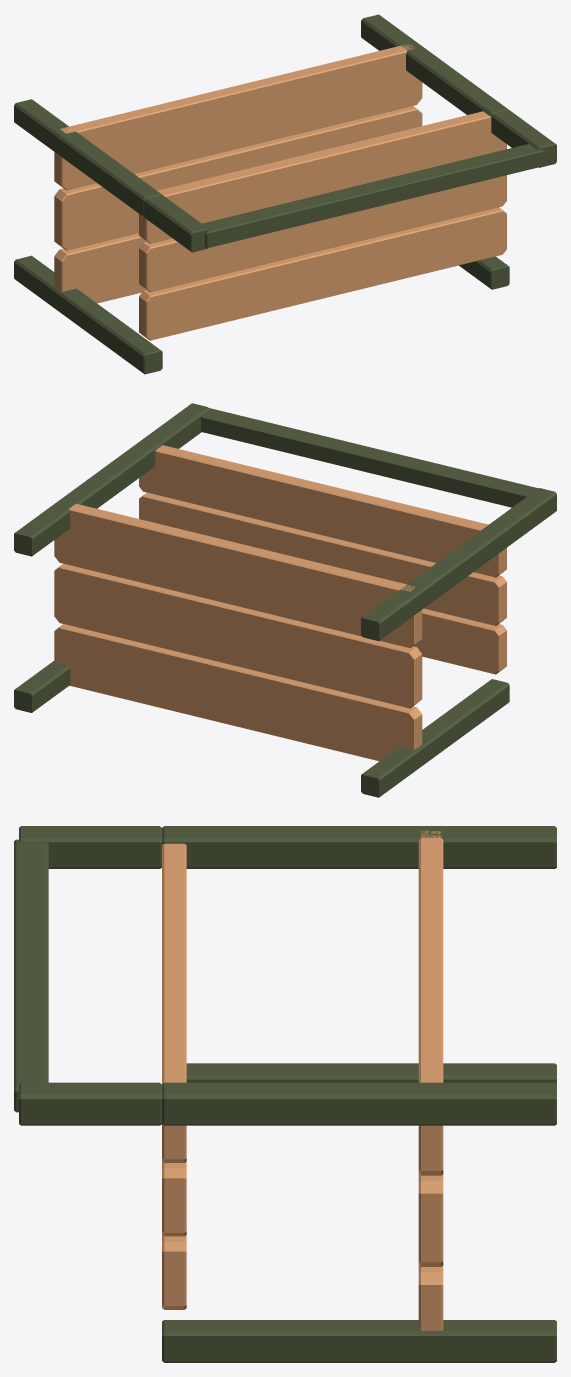
Rendered from fixture_12_garden_display.glb.
3 views of the same model, one above another, from view 1: azimuth 30°, elevation 25°; view 2: azimuth 150°, elevation 25°; view 3: azimuth 270°, elevation 25° (orthographic). The views are drawn at different scales.
Parts seen in each view (by area): view 1: fixture_12_garden_display; view 2: fixture_12_garden_display; view 3: fixture_12_garden_display.
Part boxes in pixels (x1,y1,x2,y2): fixture_12_garden_display: (14, 14, 556, 374); fixture_12_garden_display: (14, 403, 556, 797); fixture_12_garden_display: (14, 826, 556, 1362).
Size of what is drawn, in the model's own units: 1.3 by 0.6 by 1.1.
